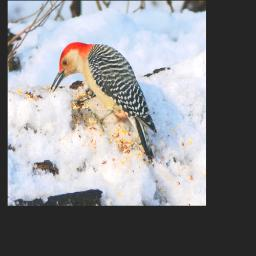Woodpecker: (50, 41, 160, 167)
